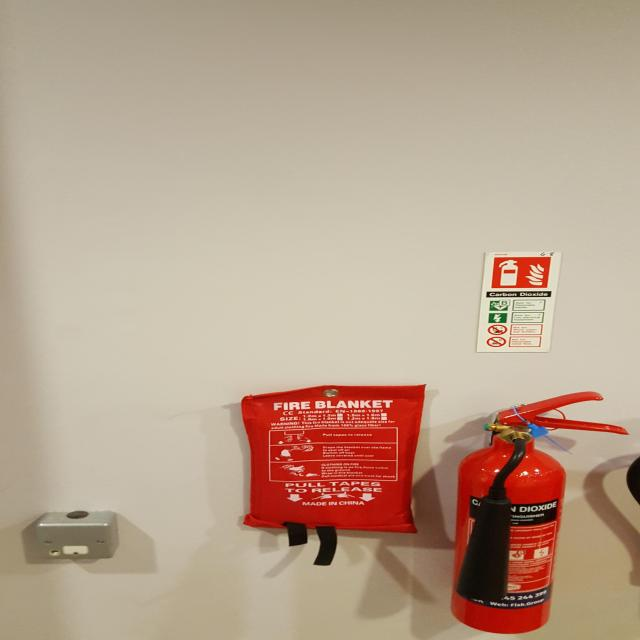fire_extinguisher: (448, 386, 633, 636)
